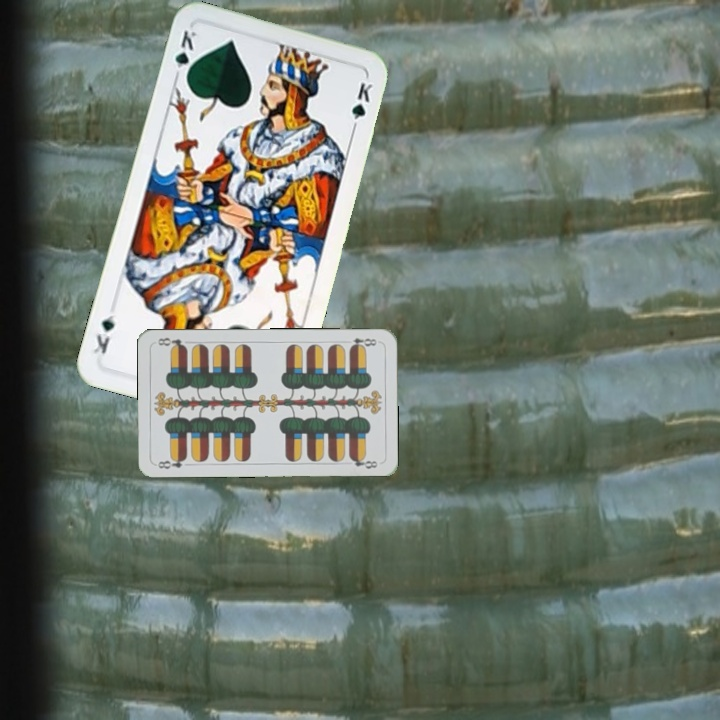E8: (341, 334, 381, 351), (154, 453, 189, 472)
GK: (170, 26, 200, 84)
